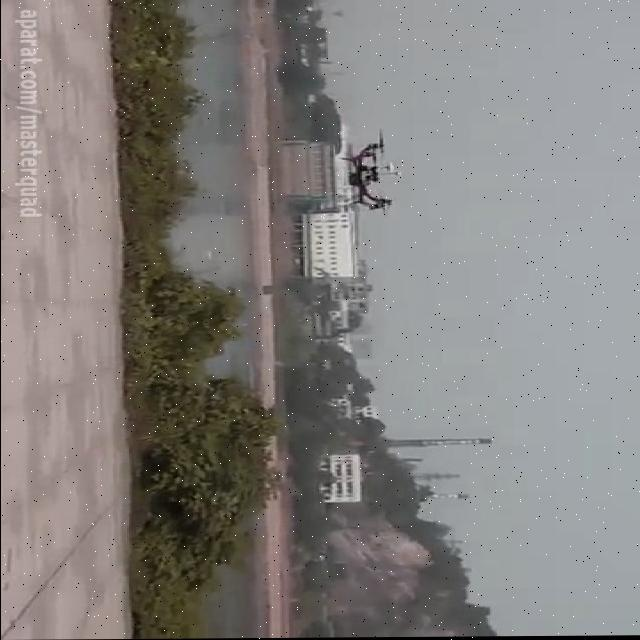drone: (337, 126, 408, 218)
